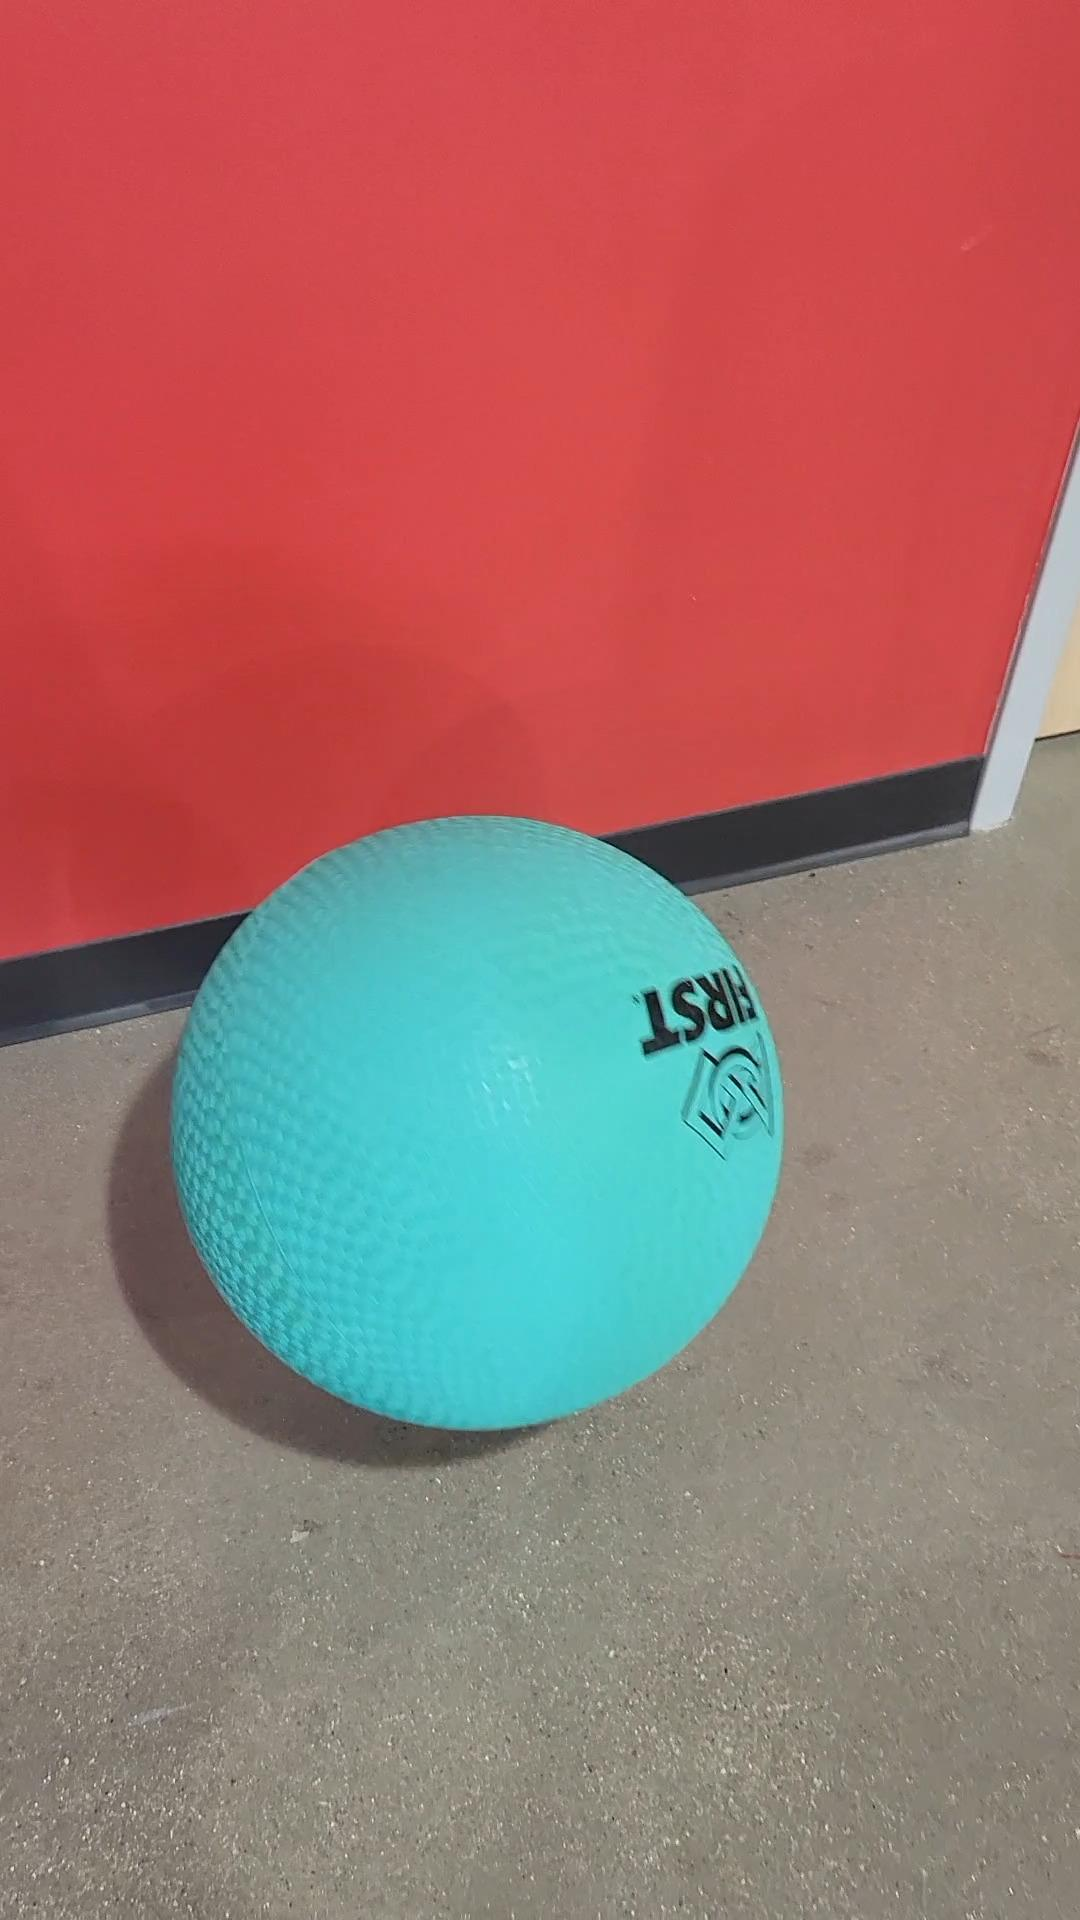algae: (181, 822, 774, 1424)
